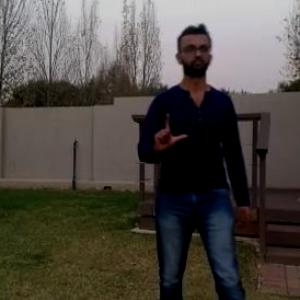land_hand: (151, 104, 198, 158)
